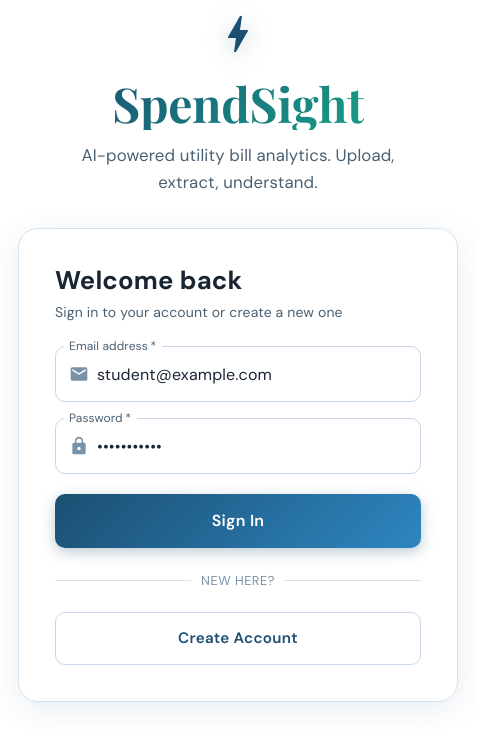
Test: AuthForm › disables buttons while login is loading
Click the button with test id "login-button".
click(238, 521)  # box [55,494,421,548]
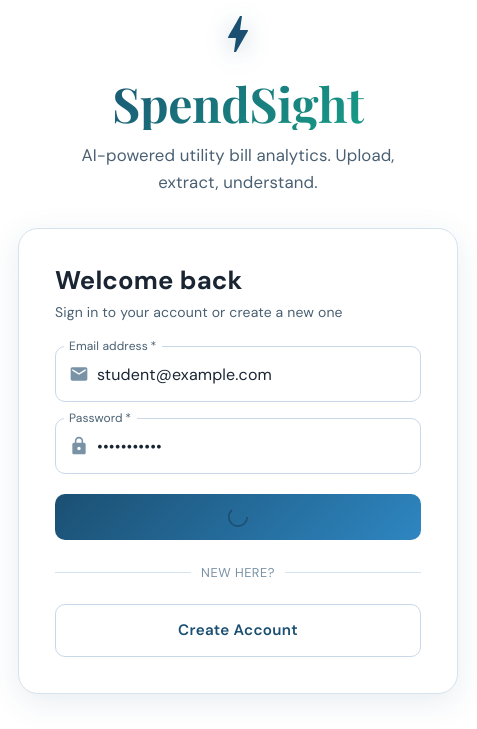
expect the button with test id "login-button" is disabled: met, box [55,494,421,540]
expect the button with test id "register-button" is disabled: met, box [55,604,421,657]
